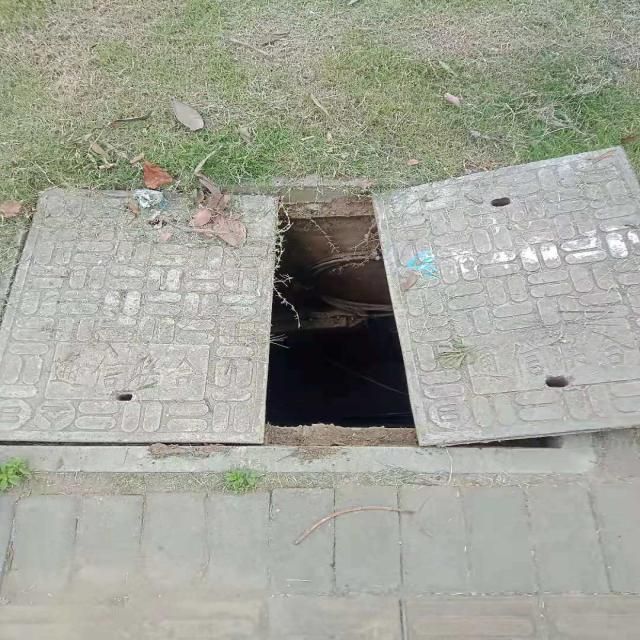Lose: (9, 144, 639, 467)
